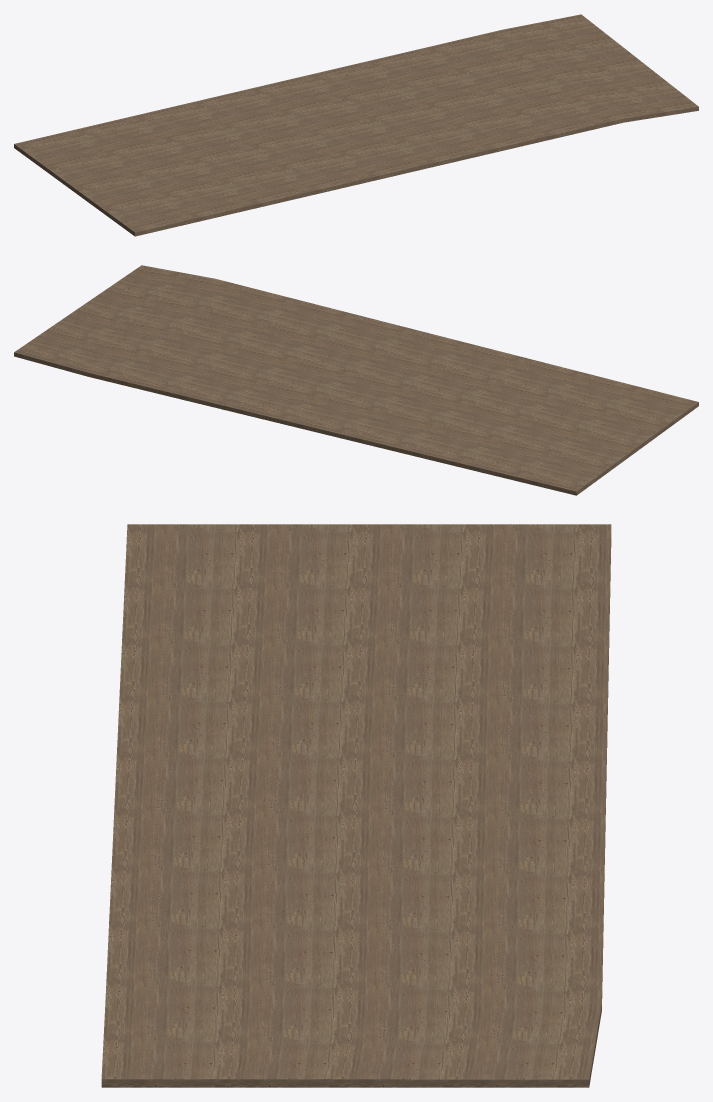
The model's file is House_Floor.fbx.
3 views of the same model, one above another, from view 1: azimuth 30°, elevation 25°; view 2: azimuth 150°, elevation 25°; view 3: azimuth 270°, elevation 25° (orthographic). The views are drawn at different scales.
Parts seen in each view (by area): view 1: House_Floor; view 2: House_Floor; view 3: House_Floor.
Boxes of the visible parts, x1,y1,x2,y2 form: House_Floor: (14,14,698,236); House_Floor: (14,265,698,495); House_Floor: (101,524,611,1087).
Bounding box in the file's own units: 2902 × 47 × 1140.
1 material, 1 textured.
